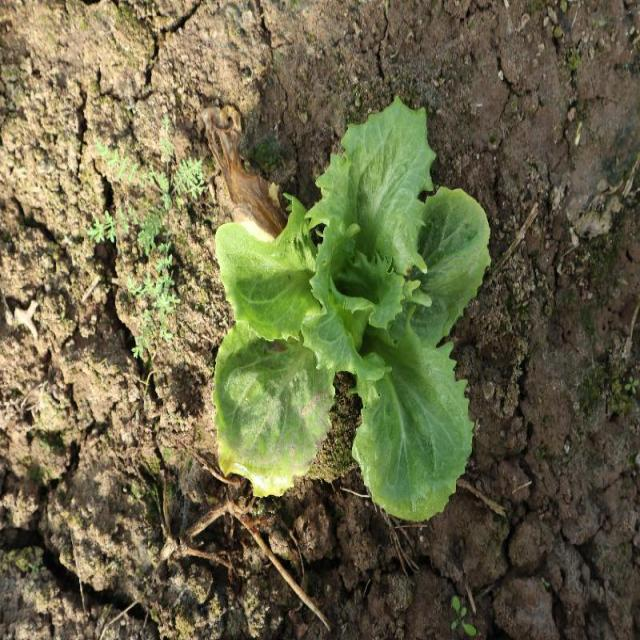crop: (214, 95, 490, 524)
